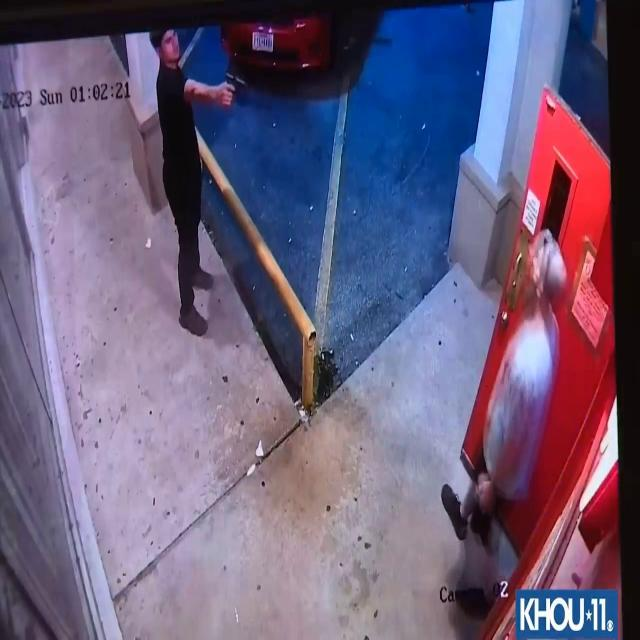penembakan: (148, 31, 250, 340)
